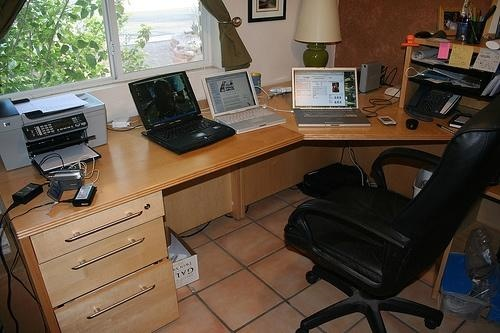chair: (284, 100, 500, 333)
